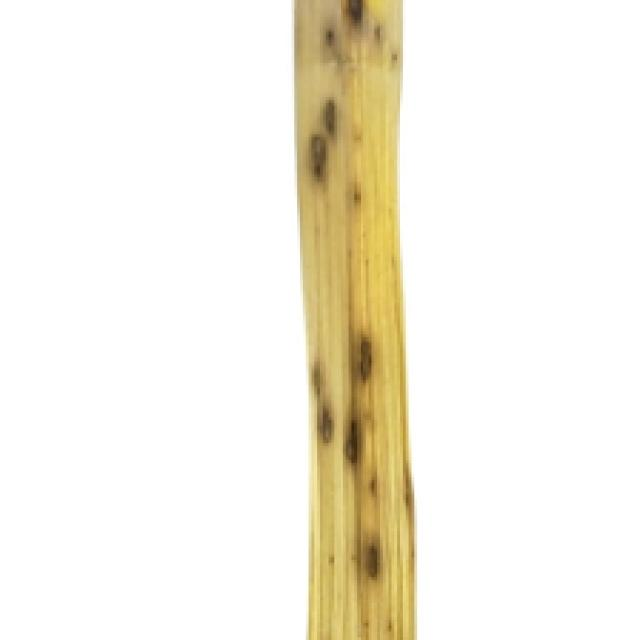Rice___Rice_Blast: (294, 0, 416, 637)
